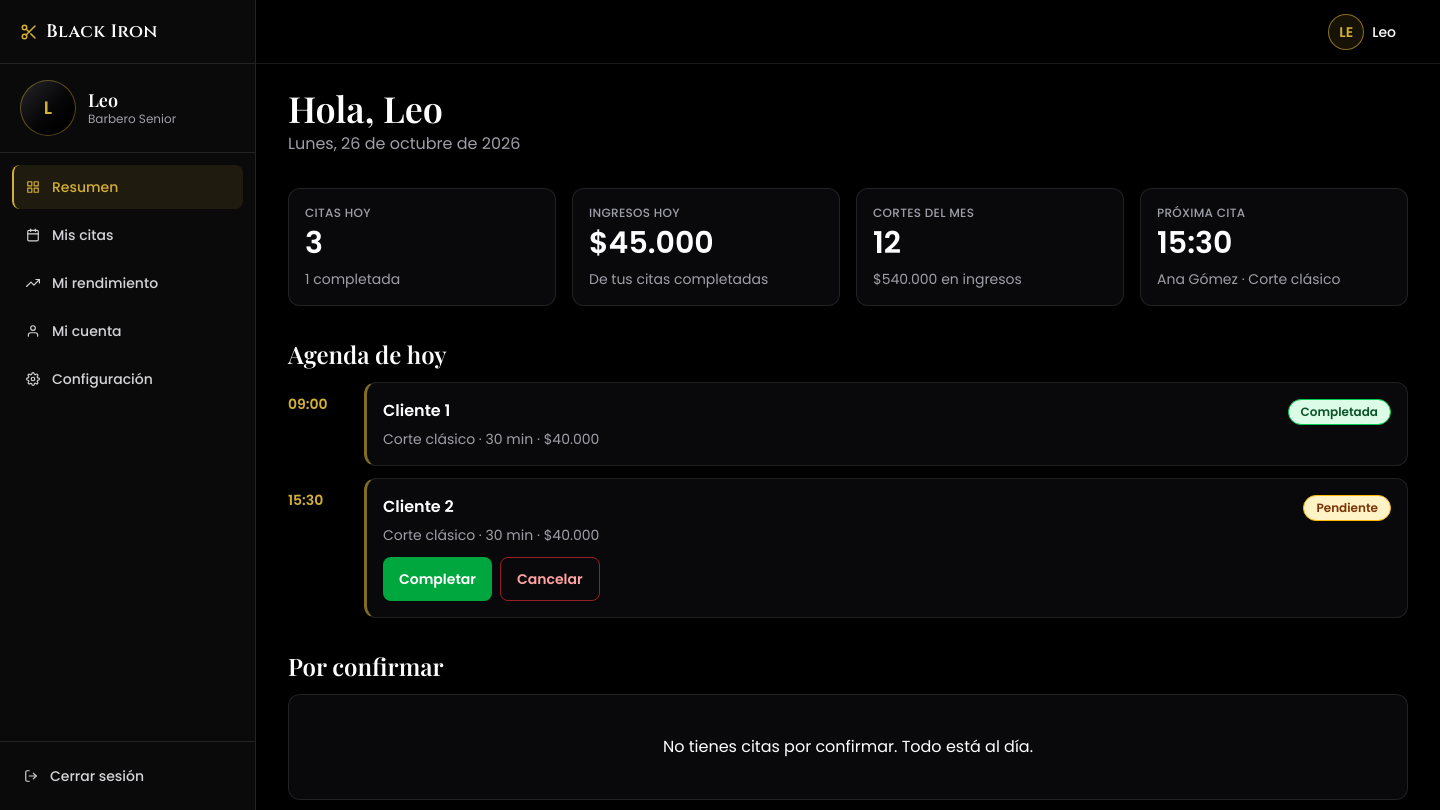
Scenario: Completar y cancelar desde el Resumen › si el back-end responde CITA_FUTURA u otro error, el mensaje se ve en pantalla y no se recarga
The image size is (1440, 810).
Expected: the text "Cliente 2" is shown, [383, 495, 454, 519]
Click the button with aria-label "Completar la cita de Cliente 2".
click(438, 579)  # box [383, 557, 492, 601]
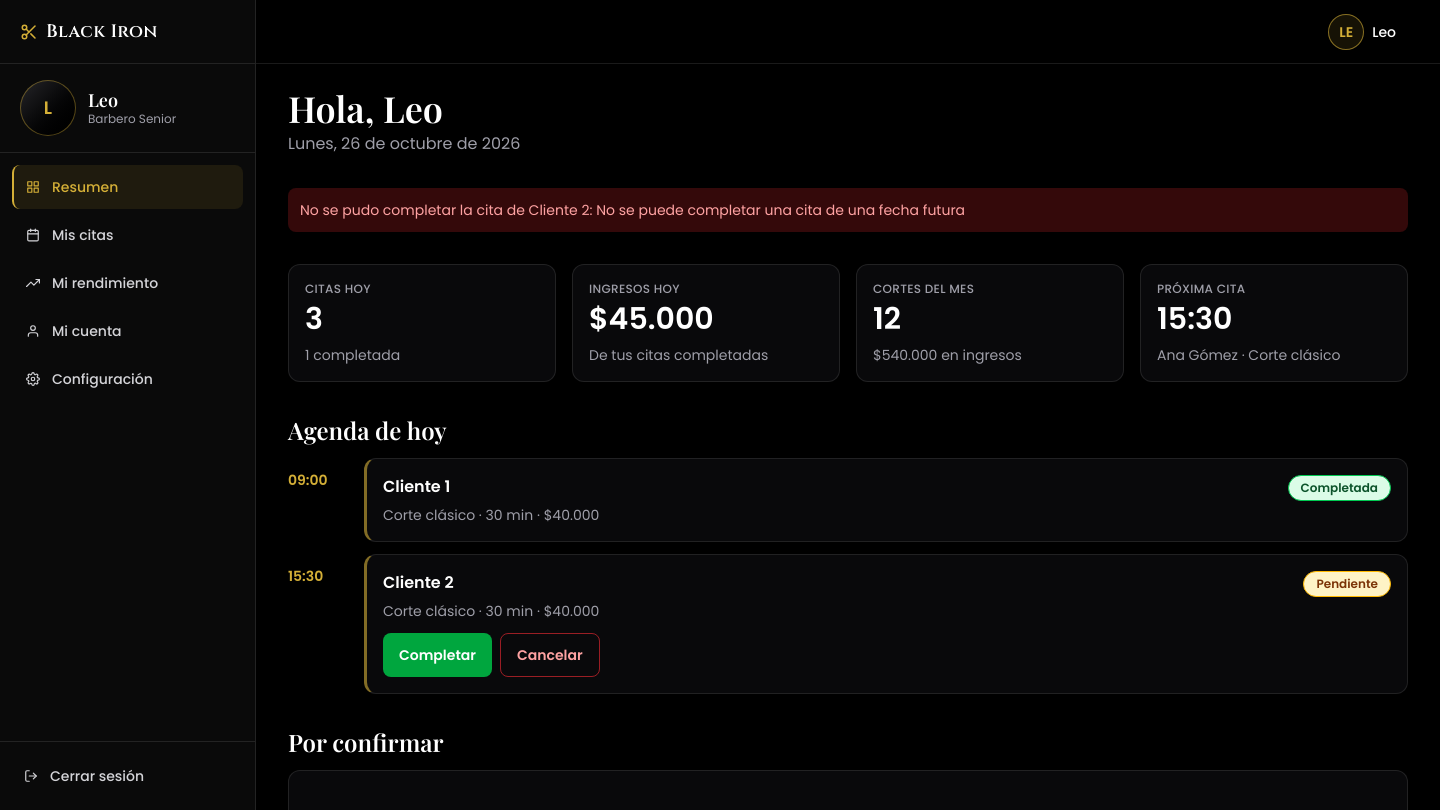
Expected: the 1st message shows "No se pudo completar la cita de Cliente 2: No se puede completar una cita de una fecha futura", [300, 200, 965, 220]
